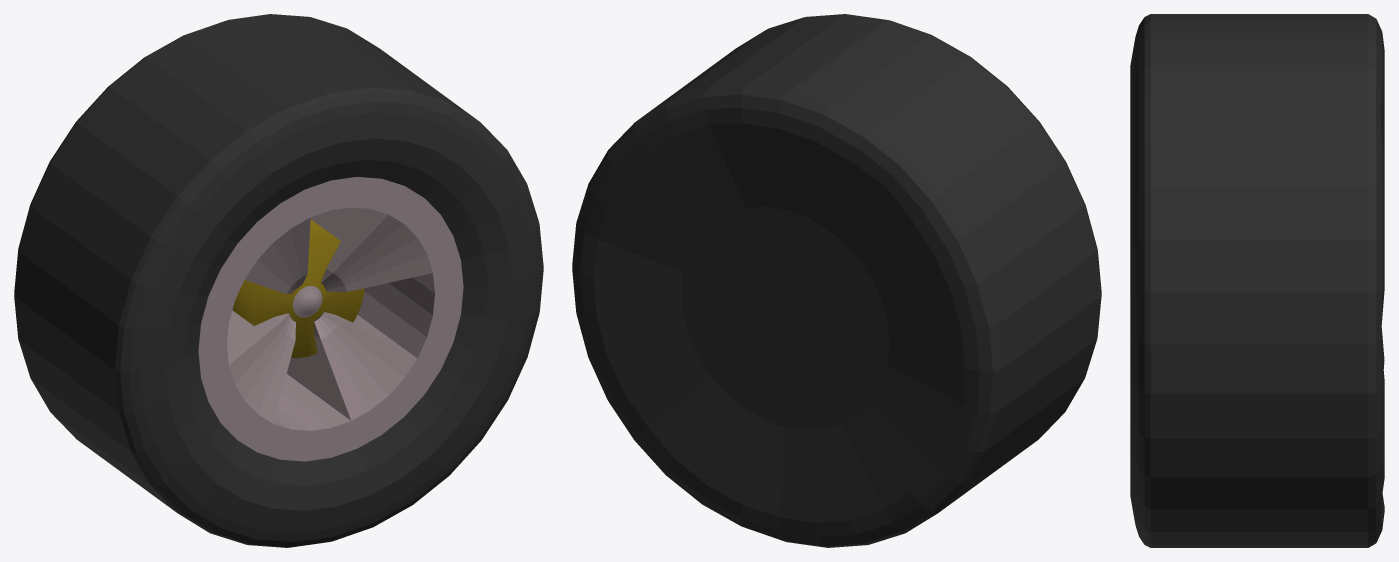
Rendered from wheel.fbx.
The picture shows the model from 3 angles, left to right: view 1: azimuth 30°, elevation 25°; view 2: azimuth 150°, elevation 25°; view 3: azimuth 270°, elevation 25°; orthographic projection. The views are drawn at different scales.
Visible parts, largest first — view 1: Wheel; view 2: Wheel; view 3: Wheel.
Part boxes in pixels (x1=…): Wheel: x1=14, y1=14, x2=543, y2=547; Wheel: x1=572, y1=14, x2=1101, y2=547; Wheel: x1=1130, y1=14, x2=1384, y2=547.
Bounding box in the file's own units: 0.7052 × 0.7052 × 0.3351.
